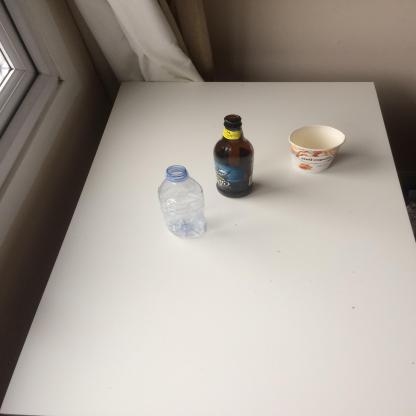cam: (215, 115, 256, 199)
karton: (290, 126, 348, 174)
plastik: (158, 166, 207, 239)
